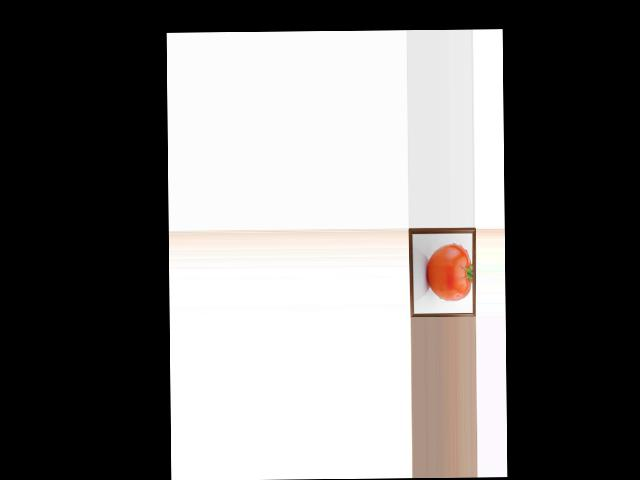tomato: (426, 243, 472, 300)
